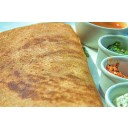dosa: (1, 22, 103, 106)
